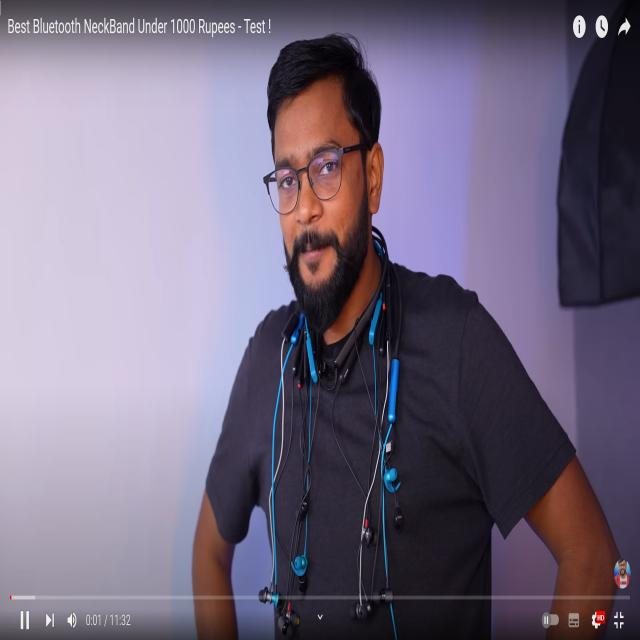Neckband: (260, 221, 406, 640)
